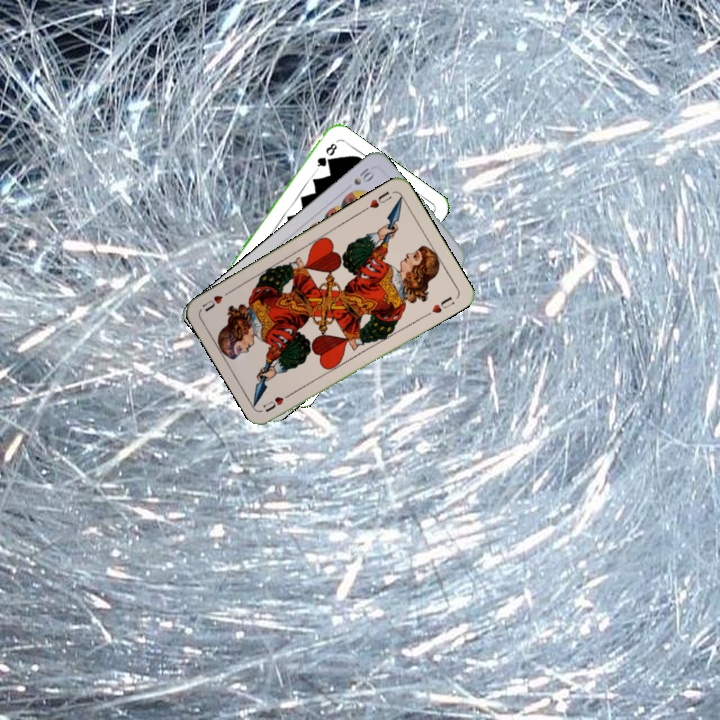G8: (311, 139, 340, 173)
HU: (260, 388, 297, 415), (359, 187, 394, 214)
S10: (349, 164, 378, 188)
